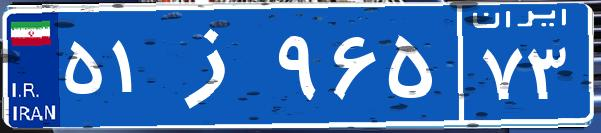1: (110, 28, 158, 105)
3: (525, 38, 570, 115)
5: (385, 28, 445, 110), (57, 26, 110, 107)
6: (330, 28, 385, 110)
7: (475, 38, 525, 113)
9: (273, 28, 330, 110)
ز: (158, 15, 273, 115)
